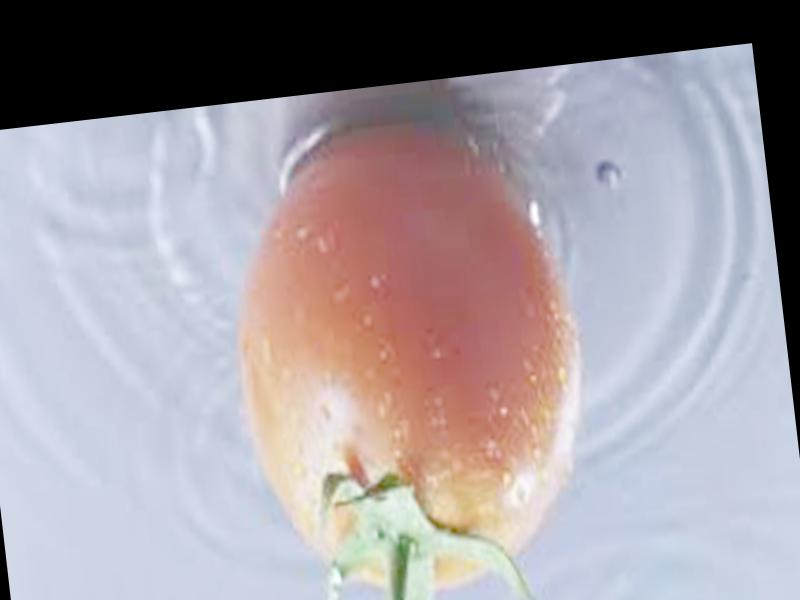Tomato: (216, 107, 599, 600)
